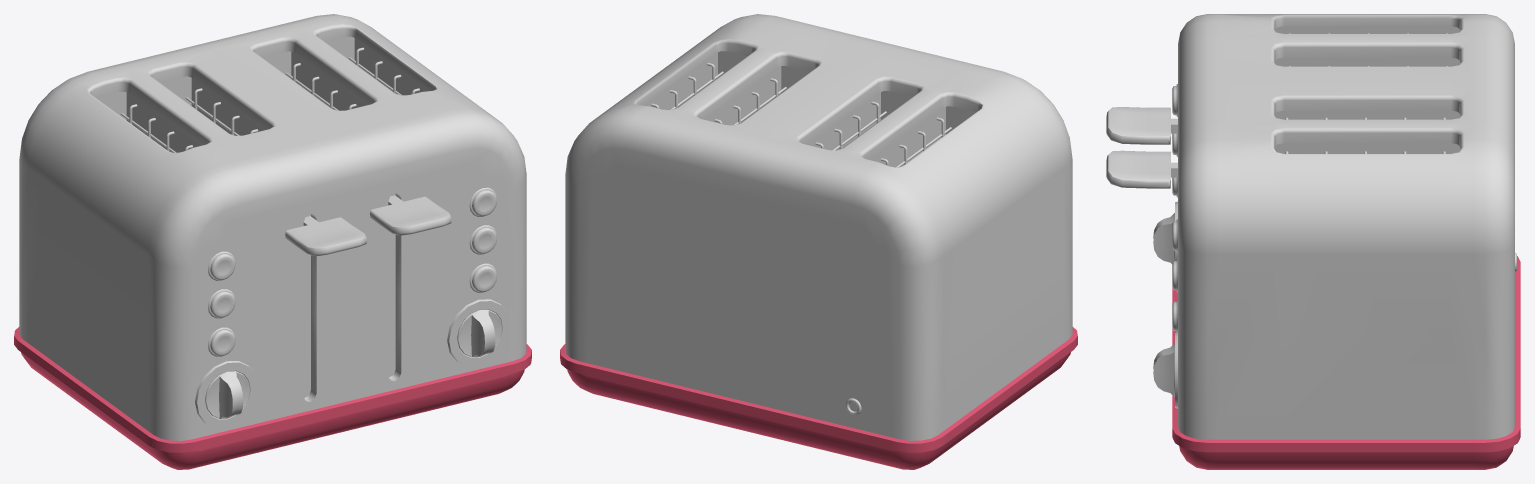
The model's file is FeelToasterModel.fbx.
3 views of the same model, side by side, from view 1: azimuth 30°, elevation 25°; view 2: azimuth 150°, elevation 25°; view 3: azimuth 270°, elevation 25° (orthographic). The views are drawn at different scales.
Visible parts, largest first — view 1: toaster_body, lever_01, lever_02, dial_02, dial_01, button_02; view 2: toaster_body; view 3: toaster_body, lever_01, lever_02, dial_02, dial_01.
Part boxes in pixels (bbox=[...]): toaster_body: bbox=[14, 14, 531, 469]; lever_01: bbox=[285, 216, 366, 256]; lever_02: bbox=[370, 195, 451, 235]; dial_02: bbox=[457, 309, 502, 357]; dial_01: bbox=[205, 371, 249, 418]; button_02: bbox=[210, 291, 235, 317]; toaster_body: bbox=[560, 14, 1077, 469]; toaster_body: bbox=[1172, 14, 1520, 469]; lever_01: bbox=[1106, 107, 1177, 144]; lever_02: bbox=[1106, 150, 1177, 188]; dial_02: bbox=[1153, 343, 1174, 396]; dial_01: bbox=[1153, 213, 1174, 263].
Bounding box in the file's own units: 28.88 × 21.01 × 25.81.
